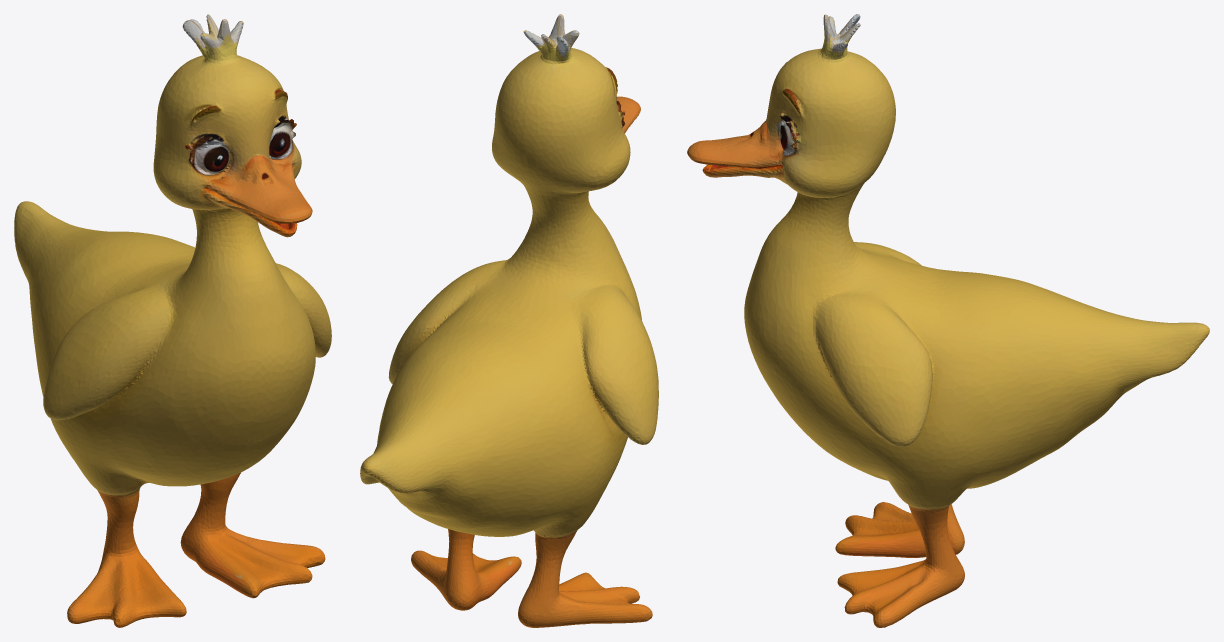
The model's file is npc_duck.glb.
3 views of the same model, side by side, from view 1: azimuth 30°, elevation 25°; view 2: azimuth 150°, elevation 25°; view 3: azimuth 270°, elevation 25° (orthographic). The views are drawn at different scales.
Parts seen in each view (by area): view 1: textured_mesh.obj; view 2: textured_mesh.obj; view 3: textured_mesh.obj.
Boxes of the visible parts, x1,y1,x2,y2 form: textured_mesh.obj: (14, 14, 331, 627); textured_mesh.obj: (360, 14, 658, 627); textured_mesh.obj: (687, 14, 1209, 627).
Bounding box in the file's own units: 0.9633 × 1.99 × 1.69.
Materials: 1 (1 with a texture image).
